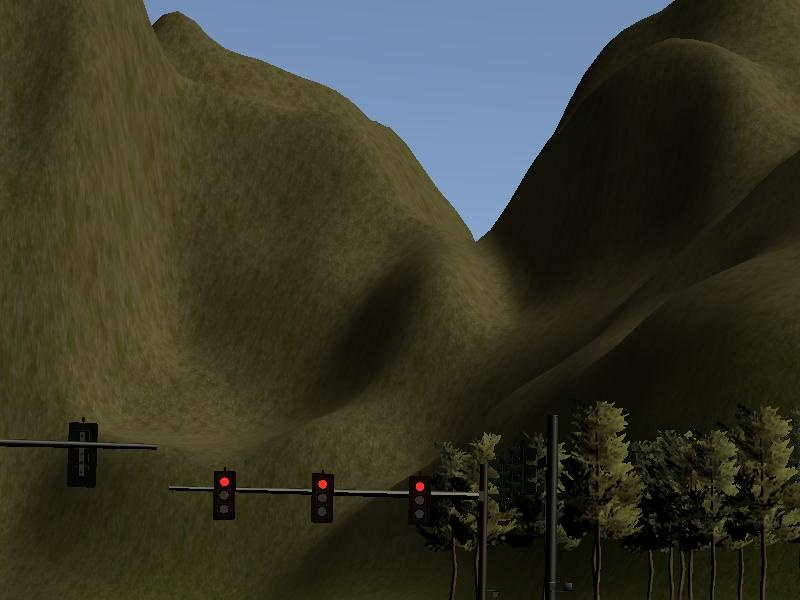red: (207, 465, 243, 529), (403, 475, 440, 535), (304, 468, 340, 529)
